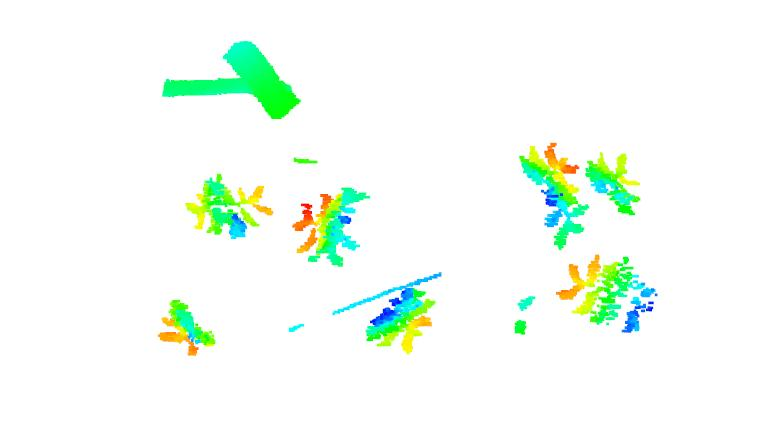chickpea: (556, 257, 661, 338), (519, 139, 586, 248), (292, 183, 371, 266), (182, 172, 271, 238), (360, 285, 442, 356), (585, 147, 643, 218), (155, 299, 214, 356)
